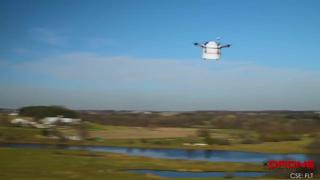UAV: (191, 37, 232, 60)
